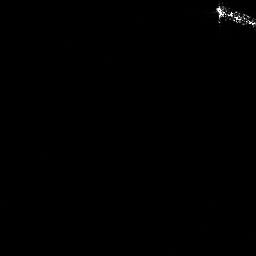ship: (213, 1, 256, 30)
